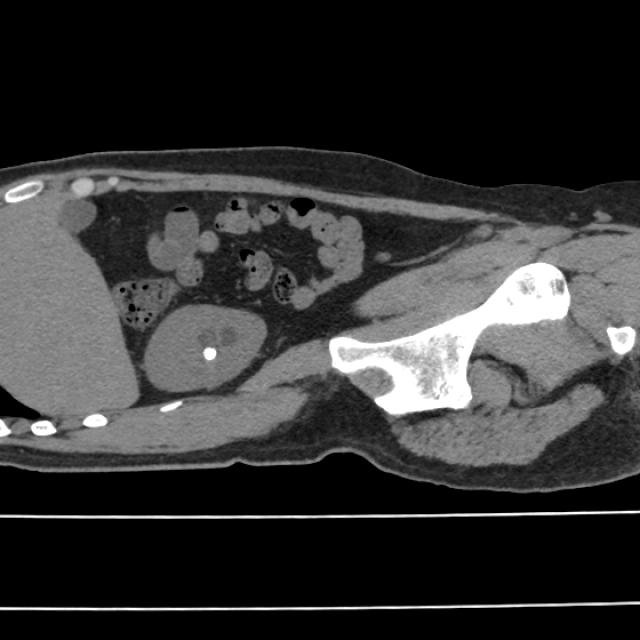kidney: (142, 304, 272, 393)
stone: (200, 343, 220, 361)
